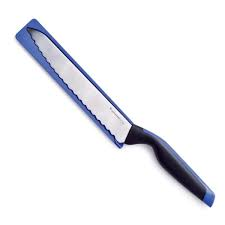breadknife: (24, 23, 218, 208)
